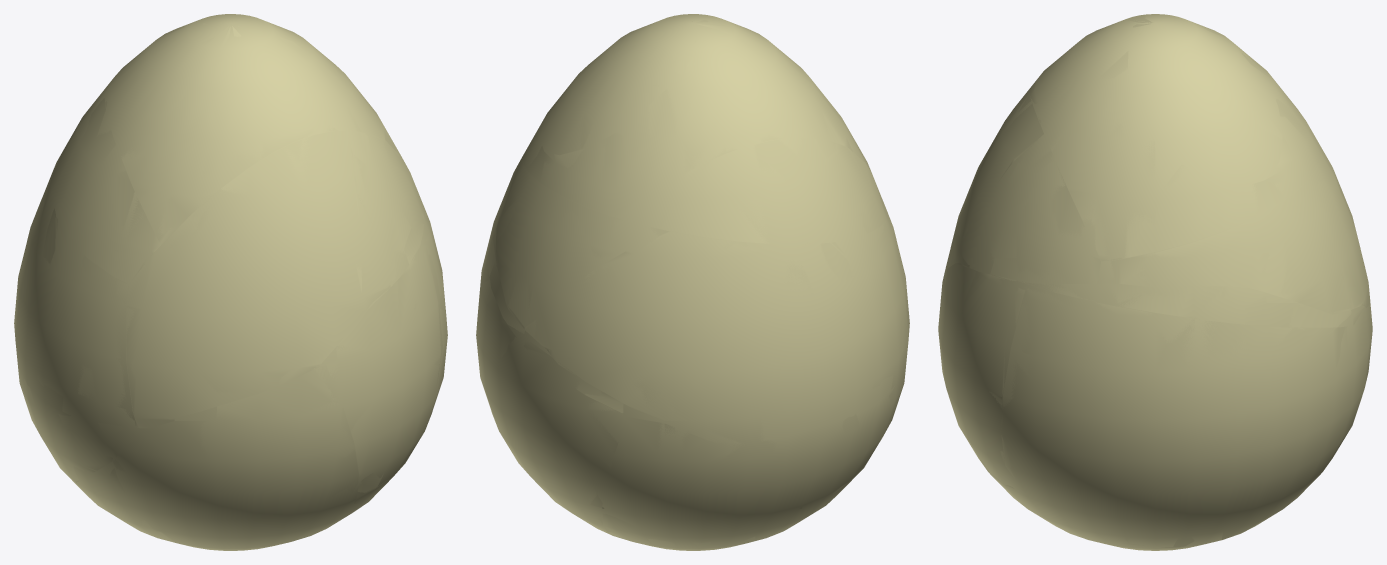
Rendered from Egg.fbx.
The picture shows the model from 3 angles, left to right: view 1: azimuth 30°, elevation 25°; view 2: azimuth 150°, elevation 25°; view 3: azimuth 270°, elevation 25°; orthographic projection.
Visible parts, largest first — view 1: Egg, Egg_cell_001, Egg_cell_000, Egg_cell_001_cell_001_cell_001, Egg_cell_001_cell_001, Egg_cell_001_cell_002, Egg_cell_000_cell_000_cell_002, Egg_cell_001_cell_002_cell_000, Egg_cell_001_cell_002_cell_001, Egg_cell_000_cell_002, Egg_cell_000_cell_000, Egg_cell_001_cell_001_cell_002 (+5 smaller); view 2: Egg, Egg_cell_001, Egg_cell_001_cell_000, Egg_cell_001_cell_002, Egg_cell_000, Egg_cell_001_cell_000_cell_001, Egg_cell_001_cell_002_cell_000, Egg_cell_000_cell_000_cell_001, Egg_cell_001_cell_002_cell_001, Egg_cell_000_cell_000, Egg_cell_000_cell_002, Egg_cell_001_cell_000_cell_002 (+3 smaller); view 3: Egg, Egg_cell_000_cell_002, Egg_cell_000, Egg_cell_001_cell_002, Egg_cell_001, Egg_cell_001_cell_000, Egg_cell_000_cell_002_cell_001, Egg_cell_001_cell_002_cell_000, Egg_cell_001_cell_000_cell_002, Egg_cell_001_cell_001, Egg_cell_000_cell_001, Egg_cell_001_cell_001_cell_002 (+5 smaller).
Part boxes in pixels (bbox=[...]): Egg: bbox=[24, 18, 447, 550]; Egg_cell_001: bbox=[14, 31, 414, 419]; Egg_cell_000: bbox=[45, 199, 446, 531]; Egg_cell_001_cell_001_cell_001: bbox=[126, 130, 361, 428]; Egg_cell_001_cell_001: bbox=[134, 131, 424, 425]; Egg_cell_001_cell_002: bbox=[55, 14, 395, 254]; Egg_cell_000_cell_000_cell_002: bbox=[113, 366, 358, 550]; Egg_cell_001_cell_002_cell_000: bbox=[105, 23, 405, 236]; Egg_cell_001_cell_002_cell_001: bbox=[57, 98, 160, 284]; Egg_cell_000_cell_002: bbox=[326, 231, 444, 503]; Egg_cell_000_cell_000: bbox=[25, 389, 357, 529]; Egg_cell_001_cell_001_cell_002: bbox=[347, 131, 403, 311]; Egg: bbox=[478, 19, 909, 550]; Egg_cell_001: bbox=[496, 24, 908, 444]; Egg_cell_001_cell_000: bbox=[497, 153, 909, 421]; Egg_cell_001_cell_002: bbox=[523, 14, 872, 244]; Egg_cell_000: bbox=[476, 226, 894, 542]; Egg_cell_001_cell_000_cell_001: bbox=[524, 232, 853, 433]; Egg_cell_001_cell_002_cell_000: bbox=[527, 20, 864, 215]; Egg_cell_000_cell_000_cell_001: bbox=[651, 396, 898, 540]; Egg_cell_001_cell_002_cell_001: bbox=[682, 138, 885, 233]; Egg_cell_000_cell_000: bbox=[602, 363, 906, 542]; Egg_cell_000_cell_002: bbox=[479, 235, 617, 533]; Egg_cell_001_cell_000_cell_002: bbox=[496, 176, 669, 328]; Egg: bbox=[944, 18, 1364, 550]; Egg_cell_000_cell_002: bbox=[942, 269, 1372, 546]; Egg_cell_000: bbox=[938, 263, 1372, 546]; Egg_cell_001_cell_002: bbox=[1029, 14, 1320, 260]; Egg_cell_001: bbox=[945, 14, 1369, 312]; Egg_cell_001_cell_000: bbox=[1120, 181, 1370, 310]; Egg_cell_000_cell_002_cell_001: bbox=[1001, 299, 1367, 546]; Egg_cell_001_cell_002_cell_000: bbox=[1029, 14, 1320, 261]; Egg_cell_001_cell_000_cell_002: bbox=[1098, 152, 1349, 314]; Egg_cell_001_cell_001: bbox=[955, 94, 1100, 284]; Egg_cell_000_cell_001: bbox=[1039, 283, 1371, 327]; Egg_cell_001_cell_001_cell_002: bbox=[955, 140, 1100, 266].
Size of the model in its own units: 2 by 2.58 by 2.
